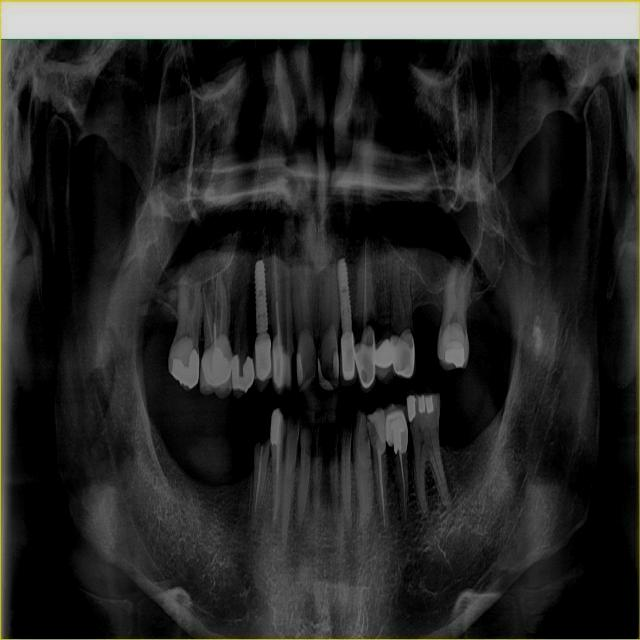Caries: (368, 311, 375, 332)
Crown: (200, 334, 233, 399), (353, 324, 375, 393), (390, 328, 416, 385), (252, 332, 274, 393), (374, 328, 396, 386), (385, 402, 409, 452), (339, 331, 357, 387)
Filling: (170, 335, 199, 390), (438, 324, 465, 365), (271, 334, 288, 394), (367, 406, 386, 453), (231, 355, 254, 393), (406, 394, 437, 422), (318, 357, 334, 391), (270, 406, 283, 446), (297, 353, 303, 388), (333, 350, 339, 379)
Implant: (337, 257, 352, 332), (255, 259, 268, 336)
Missing teeth: (221, 423, 272, 439), (415, 338, 438, 349)
Root Canal Treatment: (377, 448, 385, 527), (203, 287, 214, 343), (274, 444, 279, 522), (363, 239, 367, 332), (399, 451, 405, 513), (219, 276, 223, 337), (214, 272, 218, 324), (274, 254, 278, 301)
Root Piece: (252, 439, 270, 532)
